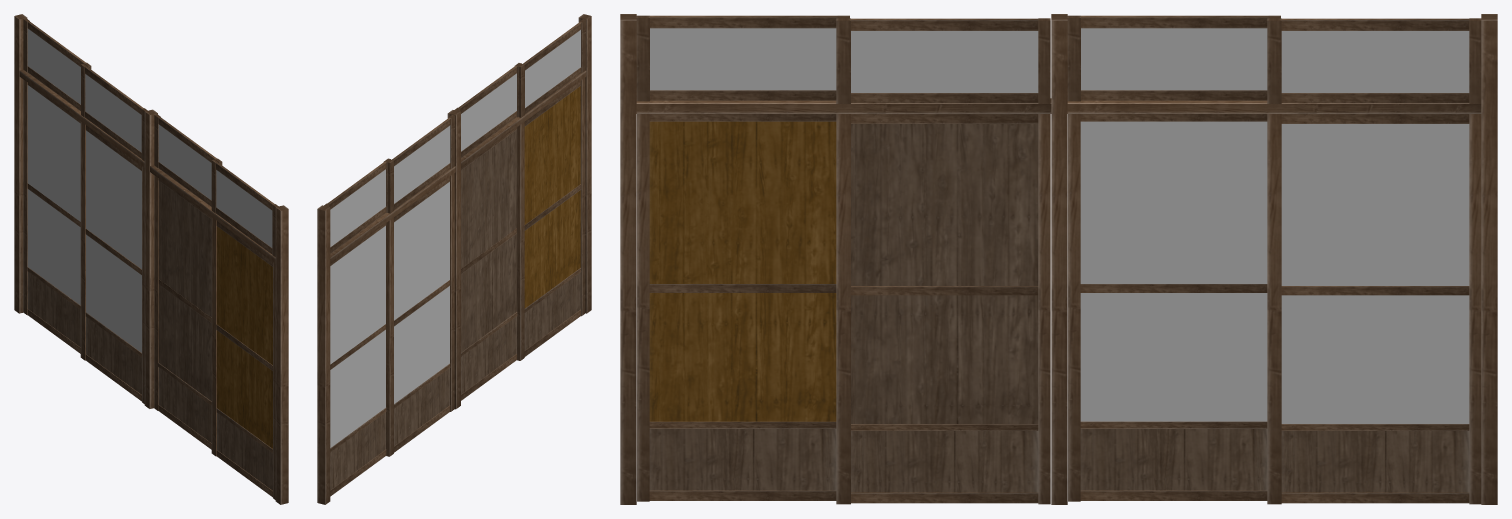
The model's file is ms_h01_close.fbx.
3 renders of one model, left to right at view 1: azimuth 30°, elevation 25°; view 2: azimuth 150°, elevation 25°; view 3: azimuth 270°, elevation 25°, orthographic. The views are drawn at different scales.
Parts seen in each view (by area): view 1: ms_h01_close; view 2: ms_h01_close; view 3: ms_h01_close.
Part boxes in pixels (x1,y1,x2,y2): ms_h01_close: [14, 14, 288, 504]; ms_h01_close: [317, 14, 591, 504]; ms_h01_close: [620, 14, 1497, 504].
Size of the model in its own units: 9.42 by 325 by 533.
